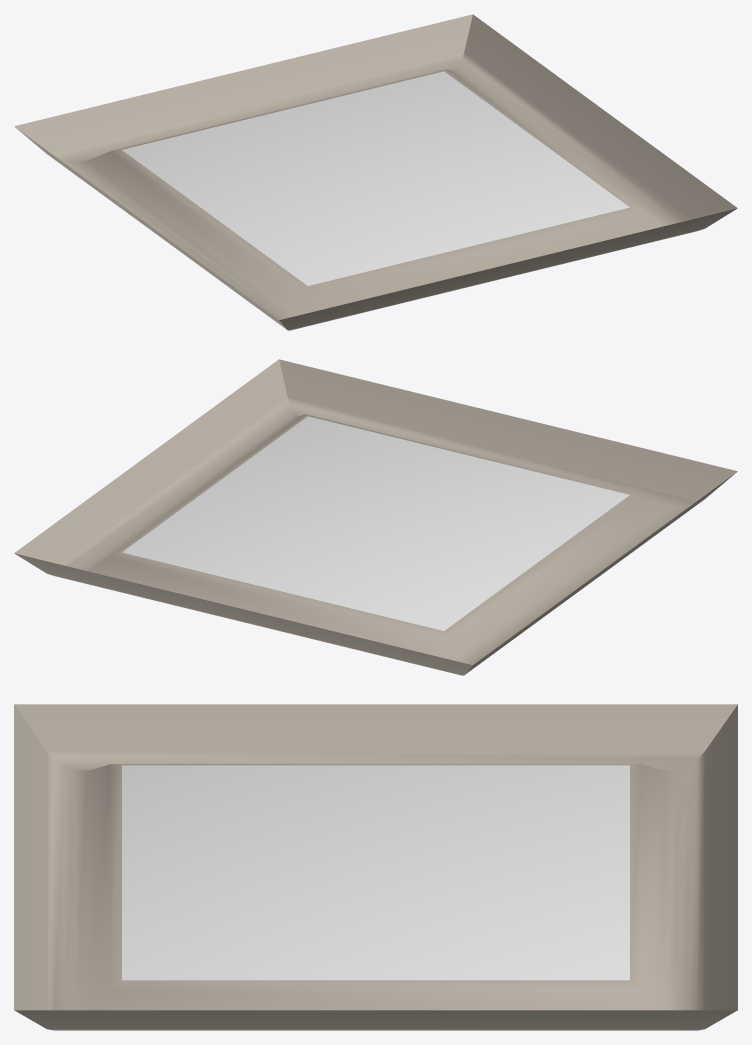
The model's file is Cealing_light.fbx.
3 views of the same model, one above another, from view 1: azimuth 30°, elevation 25°; view 2: azimuth 150°, elevation 25°; view 3: azimuth 270°, elevation 25° (orthographic). The views are drawn at different scales.
Visible parts, largest first — view 1: Cealing_light; view 2: Cealing_light; view 3: Cealing_light.
Part boxes in pixels (x1,y1,x2,y2): Cealing_light: (14,14,737,330); Cealing_light: (14,359,737,675); Cealing_light: (14,704,737,1030).
Size of the model in its own units: 136 by 136 by 8.22.
